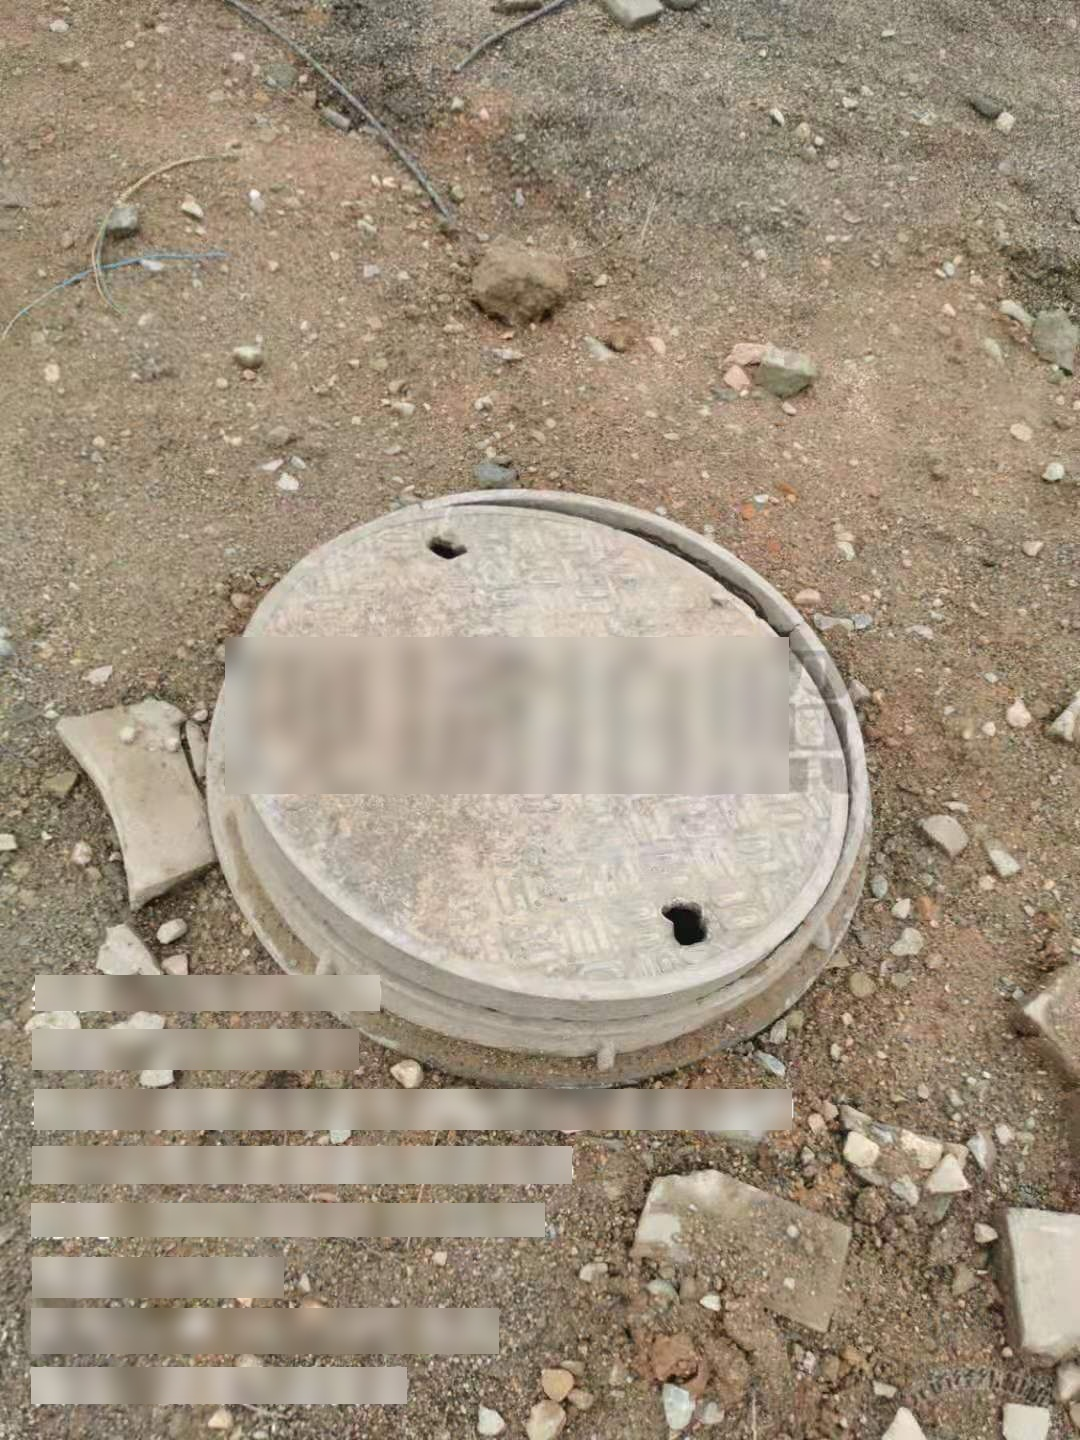uncovered: (208, 488, 874, 1086)
